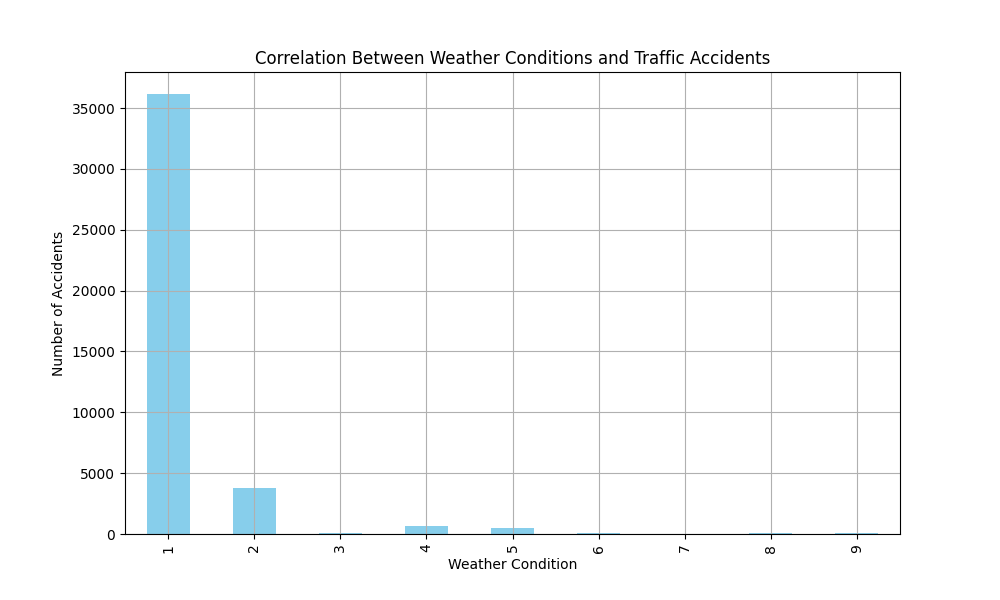

This screenshot's page, from the dashboard's own definition file:
{"tool":"tableau","page":{"name":"Dashboard 1","canvas":[1000,1000],"units":"permille","ordinal":0},"visuals":[{"type":"worksheet","title":"Sheet 2","mark":"Bar","rows":["count"],"cols":["date","date"],"box":[1.8,480.7,991,499.4]}]}

Visuals, with their boxes on the dashboard's canvas, which has no fixed pixel size, in thousandths of its width and height (x1, y1, x2, y2). These are canvas units, not pixel positions in the 1000x600 screenshot, which may show the page scaled, cropped or inside an application window:
"Sheet 2" worksheet (Bar marks): locate(2, 481, 993, 980)
